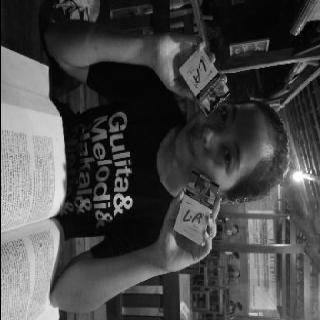objects: (172, 170, 218, 246), (178, 50, 230, 116)
